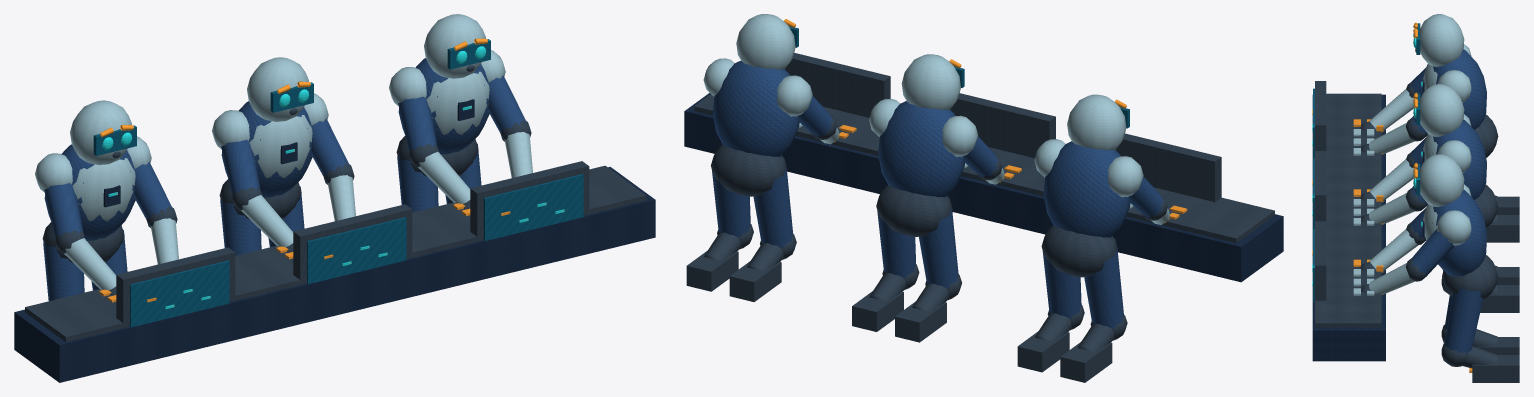
Rendered from ai_kneeling_workers.obj.
The picture shows the model from 3 angles, left to right: view 1: azimuth 30°, elevation 25°; view 2: azimuth 150°, elevation 25°; view 3: azimuth 270°, elevation 25°; orthographic projection. The views are drawn at different scales.
Visible parts, largest first — view 1: Console_MainHousing, Console_KeyboardSurface, Console_Screen_2, Console_Screen_1, Console_Screen_0, KneelingAI_2_teal_ChestShell, KneelingAI_3_silver_ChestShell, KneelingAI_1_cobalt_ChestShell, Console_ScreenFrame_2, Console_ScreenFrame_1, Console_ScreenFrame_0, KneelingAI_2_teal_Head (+29 smaller); view 2: Console_MainHousing, Console_KeyboardSurface, KneelingAI_1_cobalt_HunchedTorso, KneelingAI_3_silver_HunchedTorso, KneelingAI_2_teal_HunchedTorso, Console_ScreenFrame_0, Console_ScreenFrame_2, Console_ScreenFrame_1, KneelingAI_1_cobalt_Pelvis, KneelingAI_3_silver_Pelvis, KneelingAI_2_teal_Pelvis, KneelingAI_1_cobalt_Head (+29 smaller); view 3: Console_KeyboardSurface, Console_MainHousing, KneelingAI_3_silver_HunchedTorso, KneelingAI_2_teal_Head, KneelingAI_1_cobalt_Head, KneelingAI_3_silver_Head, KneelingAI_3_silver_Thigh_1, KneelingAI_2_teal_HunchedTorso, KneelingAI_1_cobalt_HunchedTorso, KneelingAI_3_silver_Pelvis, KneelingAI_3_silver_Boot_1, KneelingAI_3_silver_UpperArm_1 (+31 smaller).
Boxes of the visible parts, x1=… form: Console_MainHousing: x1=14, y1=166, x2=655, y2=382; Console_KeyboardSurface: x1=25, y1=165, x2=646, y2=341; Console_Screen_2: x1=483, y1=174, x2=583, y2=240; Console_Screen_1: x1=307, y1=217, x2=406, y2=284; Console_Screen_0: x1=130, y1=260, x2=229, y2=327; KneelingAI_2_teal_ChestShell: x1=249, y1=115, x2=312, y2=178; KneelingAI_3_silver_ChestShell: x1=426, y1=71, x2=489, y2=134; KneelingAI_1_cobalt_ChestShell: x1=72, y1=158, x2=135, y2=221; Console_ScreenFrame_2: x1=470, y1=161, x2=589, y2=241; Console_ScreenFrame_1: x1=293, y1=204, x2=412, y2=284; Console_ScreenFrame_0: x1=116, y1=247, x2=235, y2=327; KneelingAI_2_teal_Head: x1=247, y1=57, x2=308, y2=121; Console_MainHousing: x1=684, y1=93, x2=1283, y2=282; Console_KeyboardSurface: x1=694, y1=94, x2=1274, y2=243; KneelingAI_1_cobalt_HunchedTorso: x1=1043, y1=141, x2=1130, y2=237; KneelingAI_3_silver_HunchedTorso: x1=712, y1=60, x2=799, y2=157; KneelingAI_2_teal_HunchedTorso: x1=878, y1=101, x2=964, y2=197; Console_ScreenFrame_0: x1=1115, y1=133, x2=1221, y2=202; Console_ScreenFrame_2: x1=784, y1=53, x2=890, y2=117; Console_ScreenFrame_1: x1=950, y1=93, x2=1055, y2=158; KneelingAI_1_cobalt_Pelvis: x1=1041, y1=225, x2=1117, y2=277; KneelingAI_3_silver_Pelvis: x1=711, y1=144, x2=787, y2=196; KneelingAI_2_teal_Pelvis: x1=876, y1=185, x2=952, y2=236; KneelingAI_1_cobalt_Head: x1=1067, y1=94, x2=1126, y2=150; Console_KeyboardSurface: x1=1315, y1=93, x2=1381, y2=327; Console_MainHousing: x1=1312, y1=94, x2=1385, y2=361; KneelingAI_3_silver_HunchedTorso: x1=1432, y1=189, x2=1486, y2=276; KneelingAI_2_teal_Head: x1=1419, y1=84, x2=1464, y2=136; KneelingAI_1_cobalt_Head: x1=1419, y1=14, x2=1464, y2=66; KneelingAI_3_silver_Head: x1=1419, y1=154, x2=1464, y2=206; KneelingAI_3_silver_Thigh_1: x1=1445, y1=288, x2=1483, y2=354; KneelingAI_2_teal_HunchedTorso: x1=1432, y1=119, x2=1486, y2=199; KneelingAI_1_cobalt_HunchedTorso: x1=1432, y1=49, x2=1486, y2=129; KneelingAI_3_silver_Pelvis: x1=1442, y1=255, x2=1498, y2=299; KneelingAI_3_silver_Boot_1: x1=1472, y1=355, x2=1519, y2=382; KneelingAI_3_silver_UpperArm_1: x1=1409, y1=229, x2=1454, y2=275.
Bounding box in the file's own units: 4.95 × 2.07 × 1.84.
Materials: 7 (7 with a texture image).
